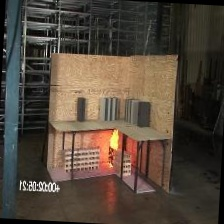fire: (103, 122, 122, 161)
